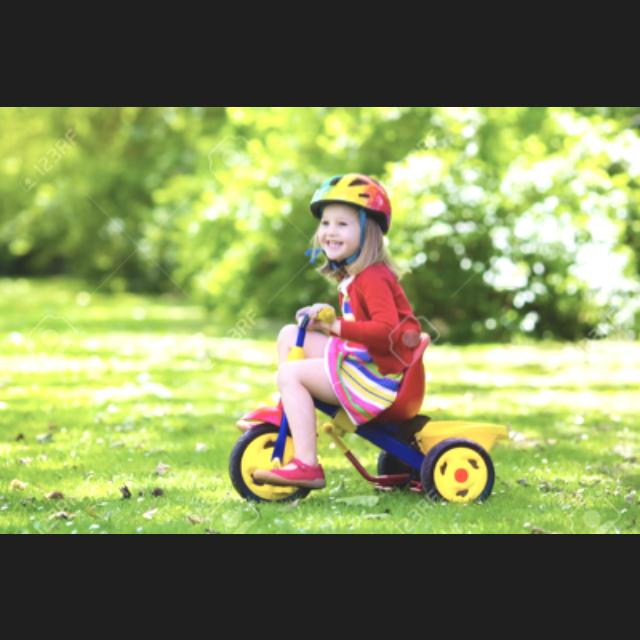With Helmet: (304, 165, 396, 277)
